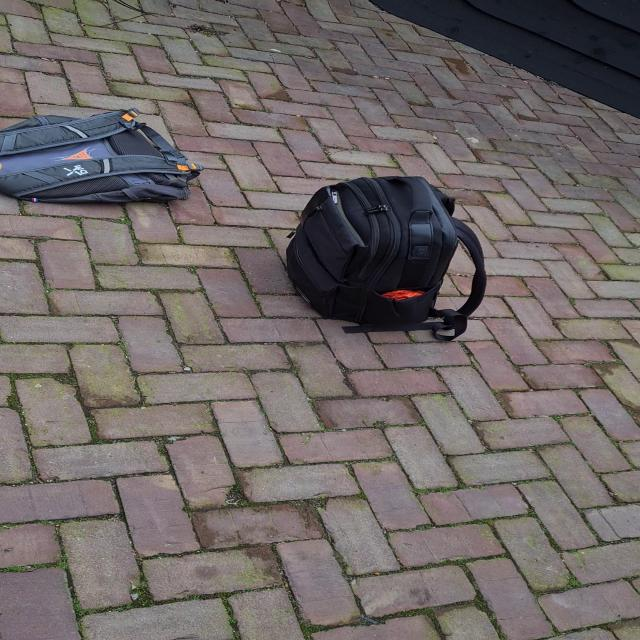backpack: (274, 169, 482, 331), (0, 107, 208, 207)
